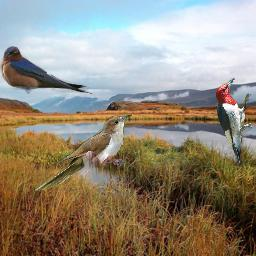Cuckoo: (34, 113, 132, 191)
Swallow: (0, 46, 95, 95)
Woodpecker: (215, 78, 252, 167)
